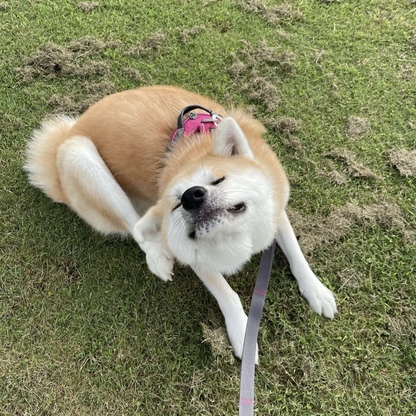akita: (19, 76, 347, 368)
